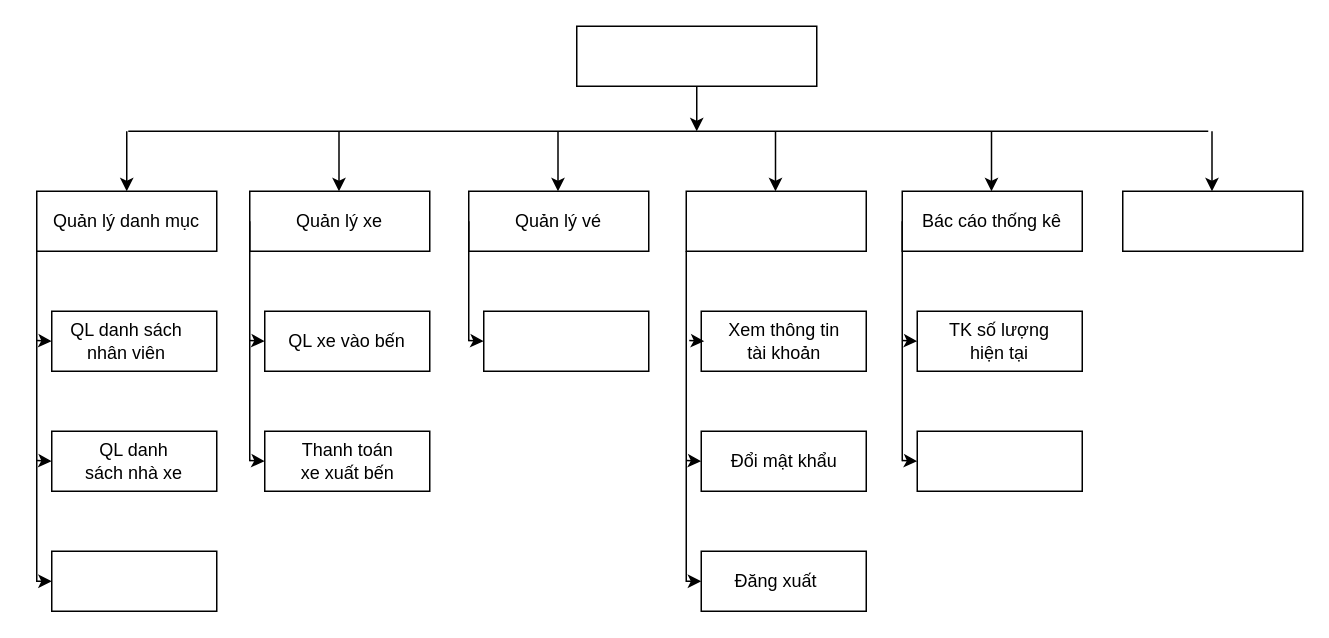
Image size: 1329x638. Some labels were removed from this diagram. Here are the shapes that lost their labels. From the top down, the centre of each, then its label:
pixel 696 55: Quản lý nhà gửi xe
pixel 775 220: Quản trị hệ thống
pixel 1212 220: Trợ giúp
pixel 565 340: Đăng ký vé tháng
pixel 999 460: TK số lượng đã gửi
pixel 133 580: QL danh sách vé xe
